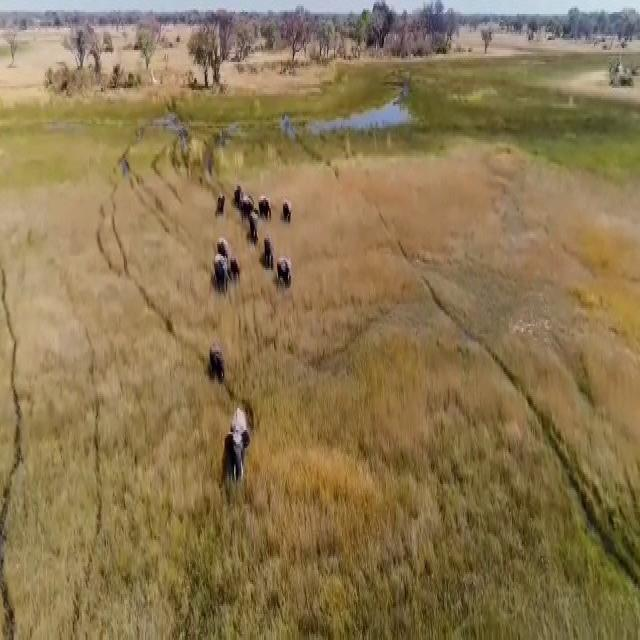Elephant: (220, 408, 256, 483), (207, 332, 224, 389), (212, 253, 229, 300), (274, 253, 293, 290), (208, 187, 226, 220), (233, 192, 251, 214), (247, 220, 260, 248), (258, 240, 272, 263), (227, 253, 242, 274), (281, 202, 293, 220), (261, 196, 270, 220)
